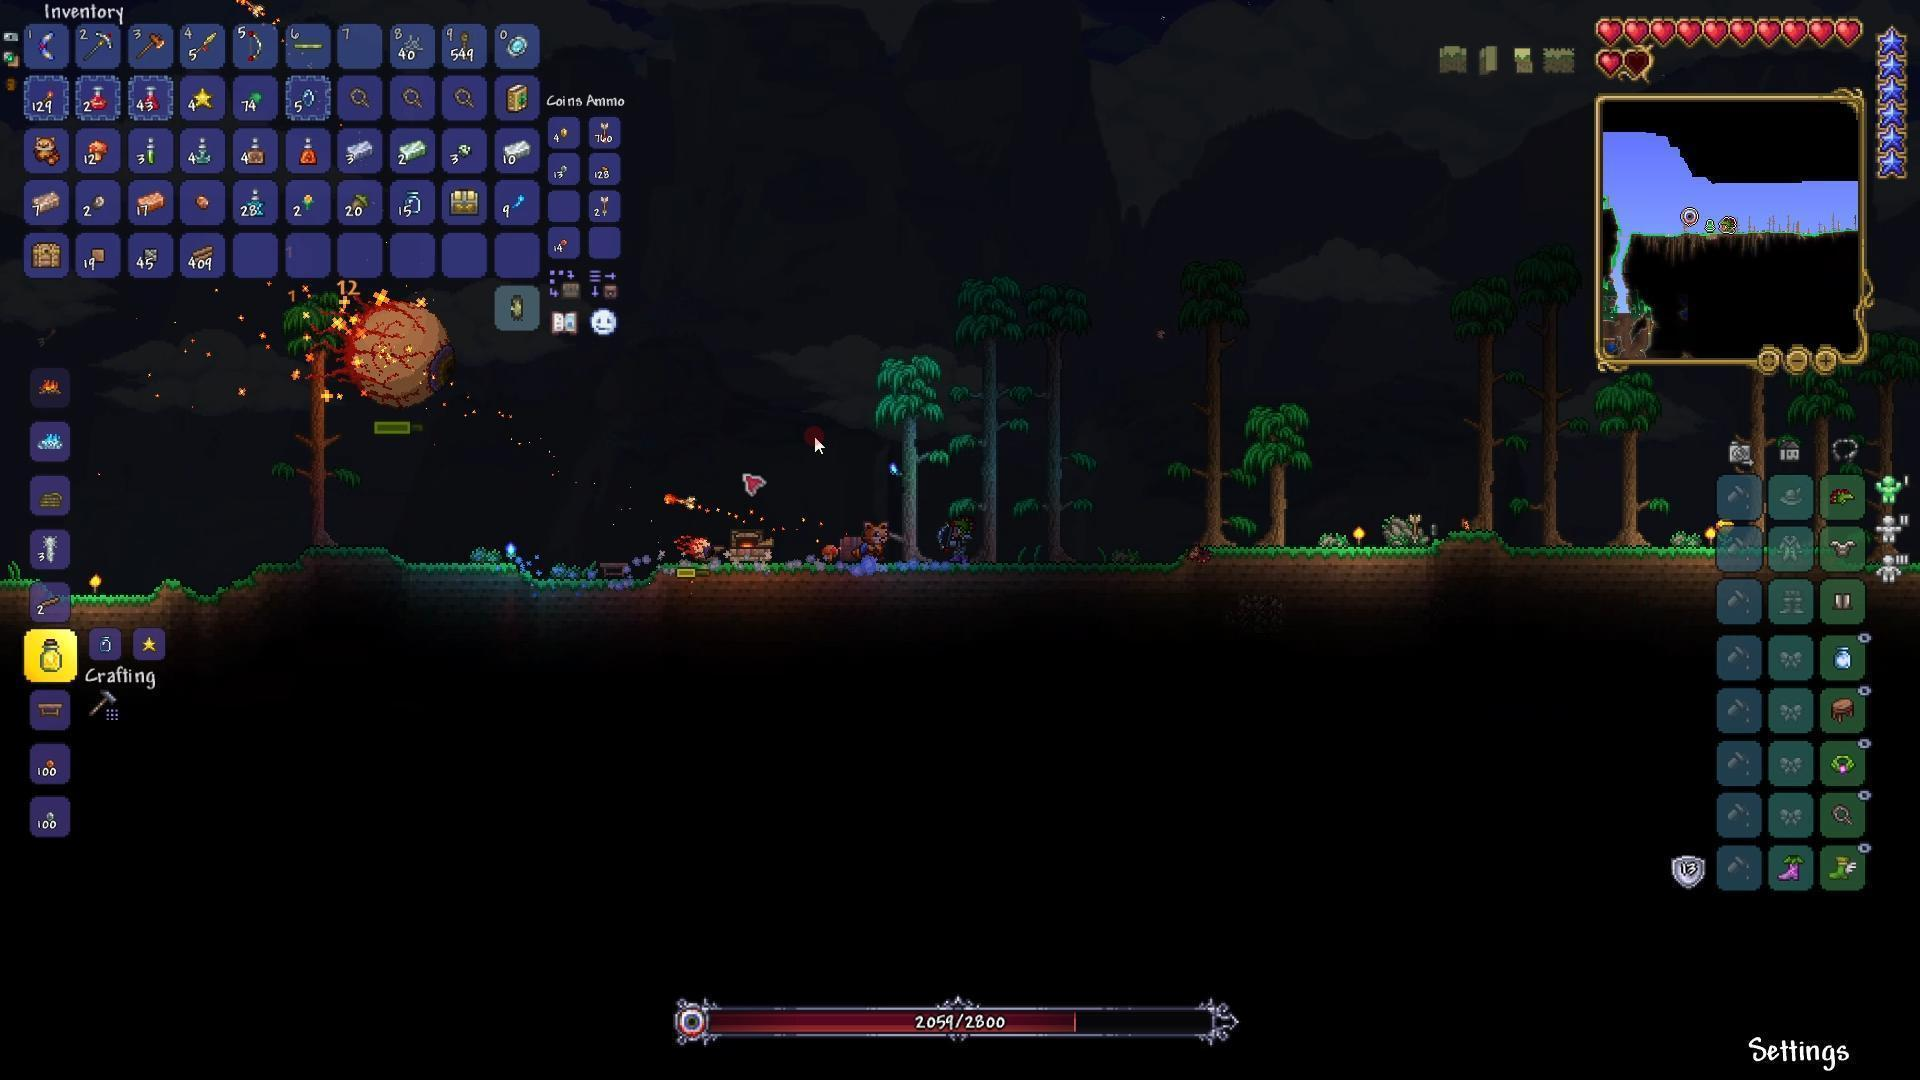arrow: (1404, 502, 1427, 555), (599, 120, 615, 146), (597, 191, 611, 216)
axe: (135, 32, 167, 61)
breastplate: (1829, 538, 1857, 560)
cobwebI: (397, 34, 426, 58)
eye: (666, 524, 724, 580)
eyeC: (301, 284, 473, 419)
furnace: (723, 520, 785, 574)
legs: (1829, 589, 1855, 616)
lens: (301, 84, 319, 109)
torchT: (78, 563, 125, 600), (1692, 524, 1730, 560)
tree: (942, 255, 1018, 593), (1510, 251, 1588, 564), (855, 334, 948, 576), (282, 287, 360, 560), (1445, 276, 1515, 543), (1600, 375, 1672, 575), (1238, 397, 1319, 571)
wood: (189, 241, 218, 269)
workbench: (36, 700, 65, 716)
